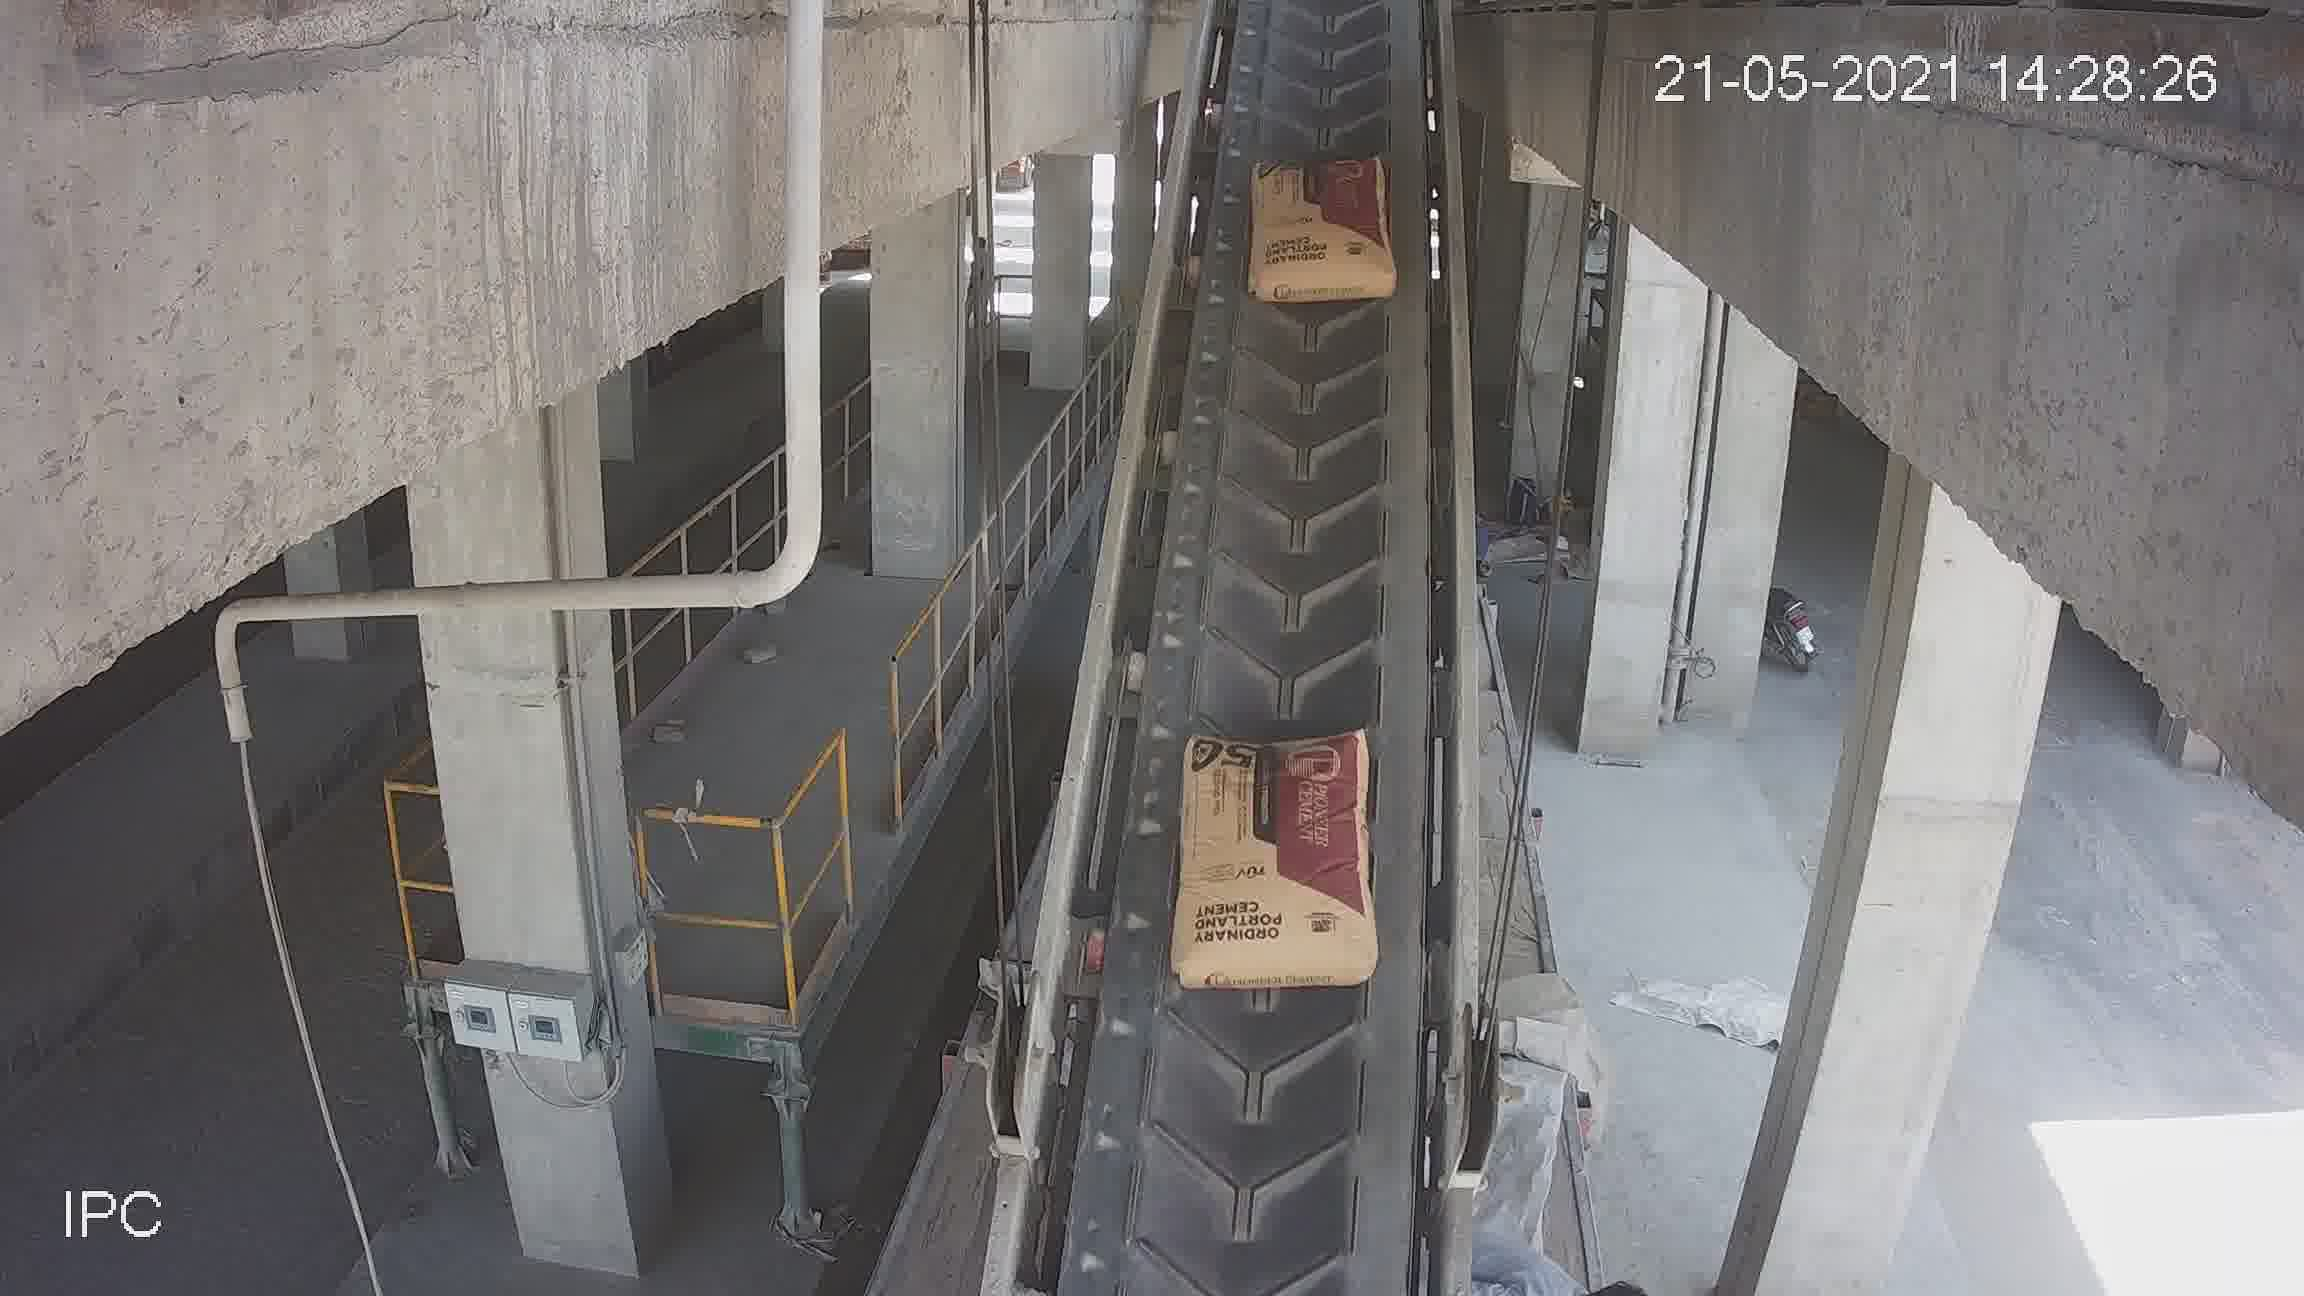bag: (1188, 741, 1374, 1002), (1244, 160, 1388, 302)
belt: (1052, 52, 1487, 1241)
